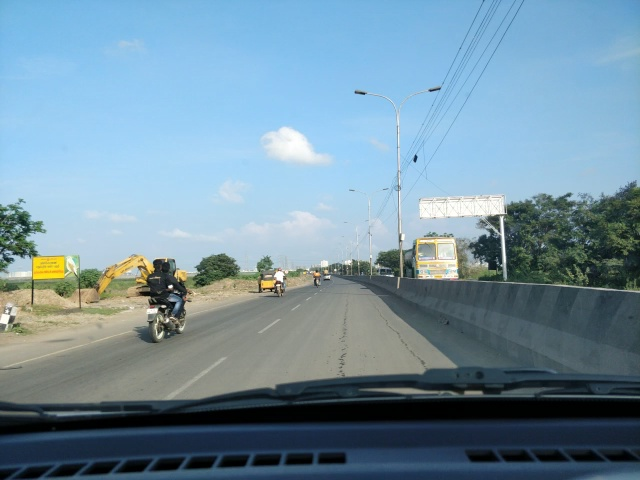auto: (258, 270, 285, 295)
car: (322, 272, 333, 281)
motorbike: (145, 255, 191, 349), (273, 268, 289, 297), (311, 267, 324, 289)
tractor: (78, 245, 194, 308)
truck: (399, 234, 466, 292)
